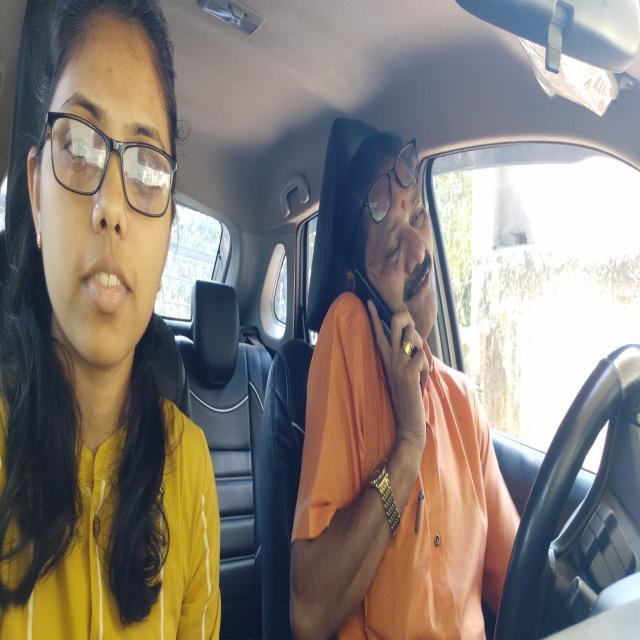mobile: (344, 257, 428, 381)
person: (11, 2, 182, 380), (340, 130, 457, 364)
